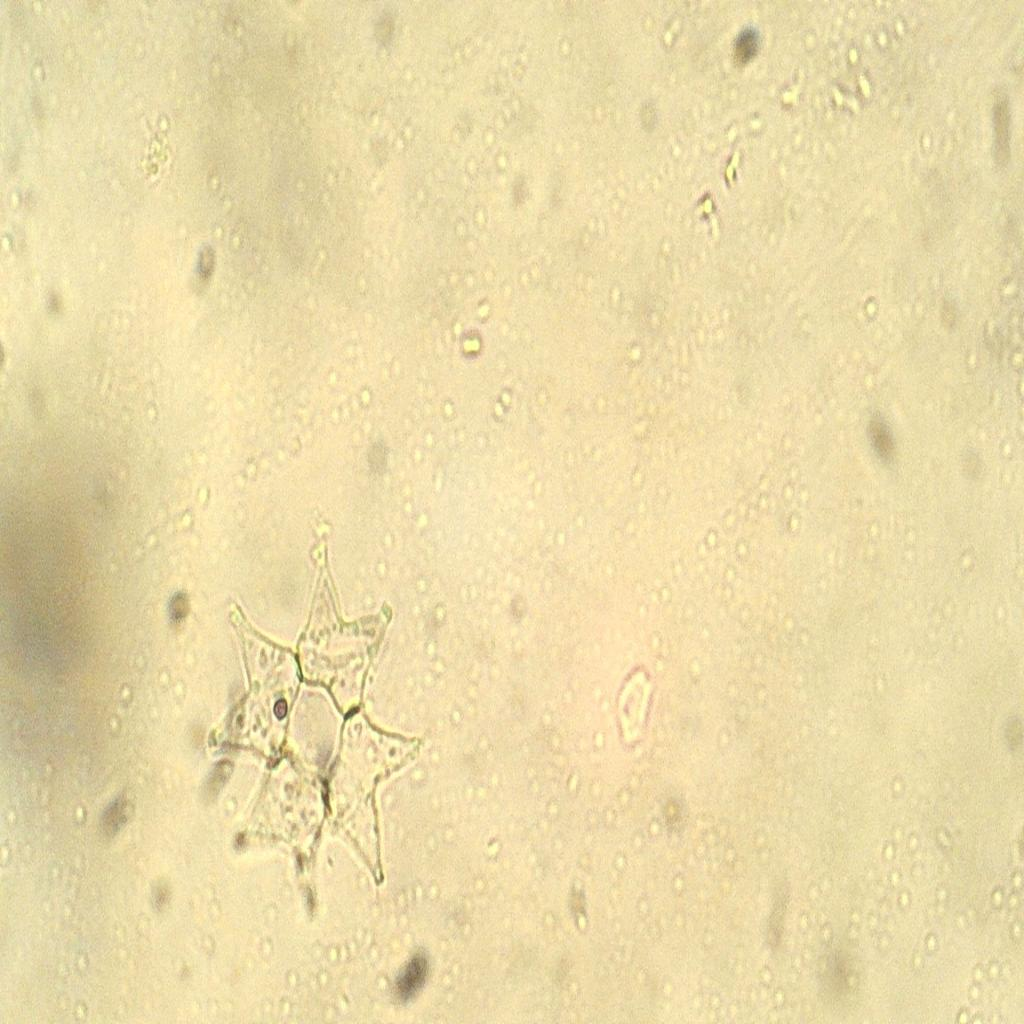Pediastrum_1F0: (189, 513, 439, 935)
